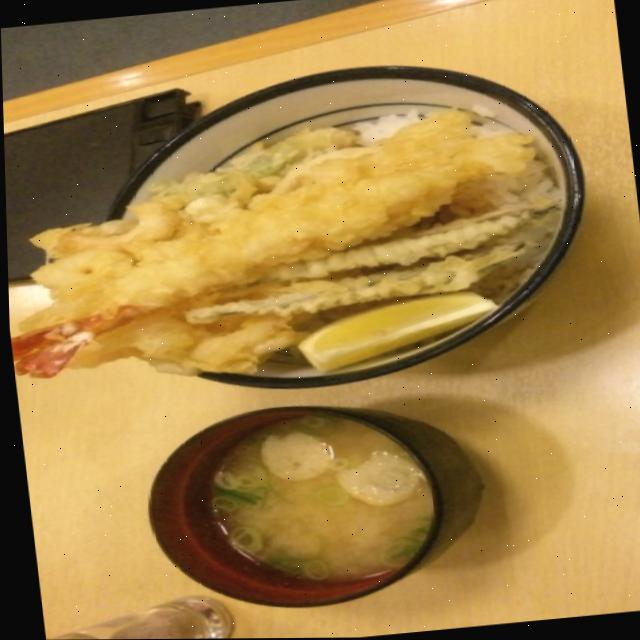汤锅炖物: (148, 390, 471, 597)
熟制海鲜: (37, 44, 614, 421)
